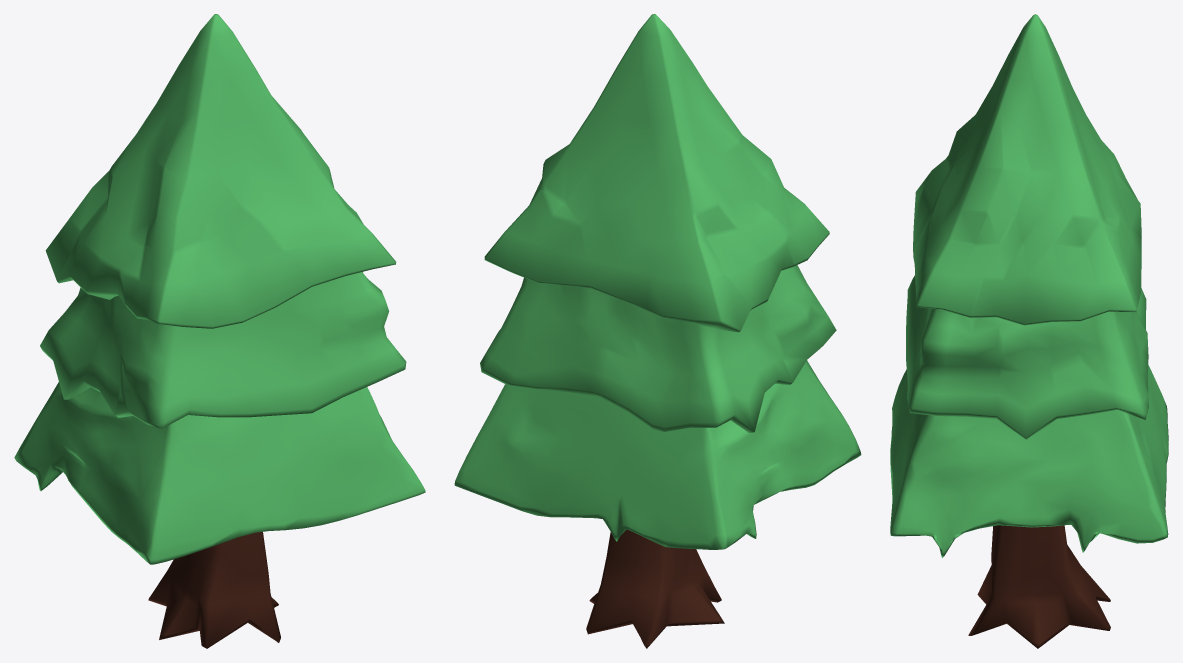
Rendered from pineTree.fbx.
3 views of the same model, side by side, from view 1: azimuth 30°, elevation 25°; view 2: azimuth 150°, elevation 25°; view 3: azimuth 270°, elevation 25° (orthographic).
Parts seen in each view (by area): view 1: Leaves Layer 1, Leaves Layer 3, Leaves Layer 2, Trunk; view 2: Leaves Layer 1, Leaves Layer 3, Leaves Layer 2, Trunk; view 3: Leaves Layer 1, Leaves Layer 3, Leaves Layer 2, Trunk.
Part boxes in pixels (x1,y1,x2,y2): Leaves Layer 1: (45, 14, 396, 328); Leaves Layer 3: (14, 382, 425, 564); Leaves Layer 2: (40, 272, 406, 428); Trunk: (148, 532, 280, 648); Leaves Layer 1: (484, 14, 829, 332); Leaves Layer 3: (454, 360, 861, 549); Leaves Layer 2: (480, 265, 836, 432); Trunk: (586, 529, 724, 648); Leaves Layer 1: (913, 14, 1141, 325); Leaves Layer 3: (890, 365, 1168, 557); Leaves Layer 2: (906, 275, 1148, 439); Trunk: (968, 525, 1110, 648).
Size of the model in its own units: 223 by 463 by 193.
